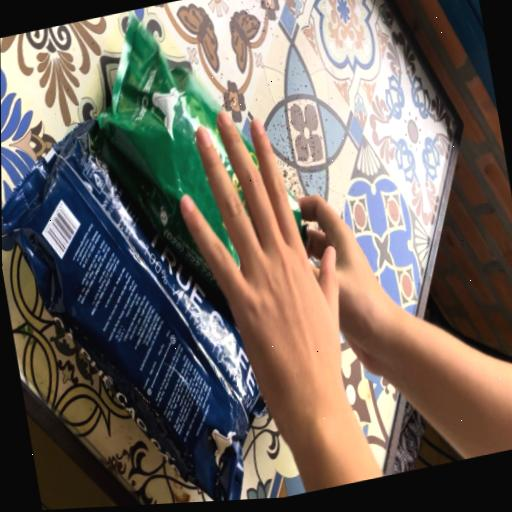cafe_hat: (2, 121, 264, 501)
cafe_xay: (89, 19, 242, 285)
